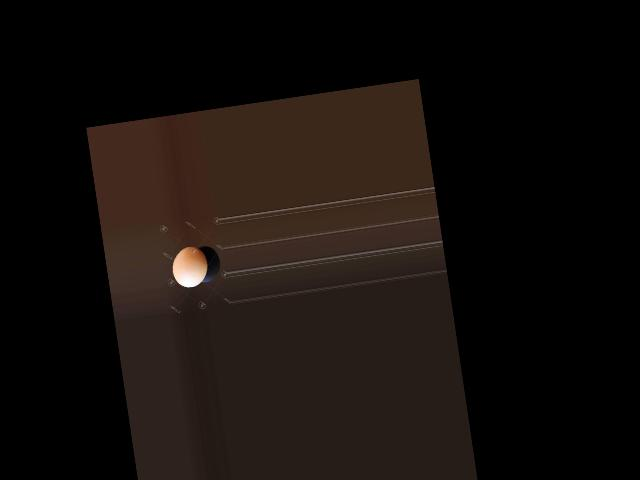egg: (169, 244, 211, 289)
